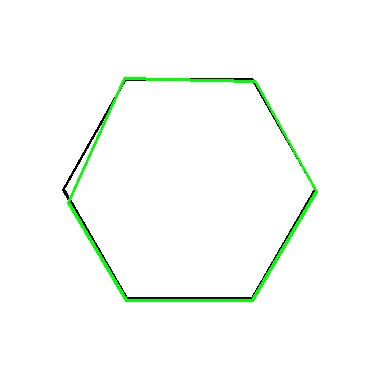line_segment: (62, 77, 317, 301)
